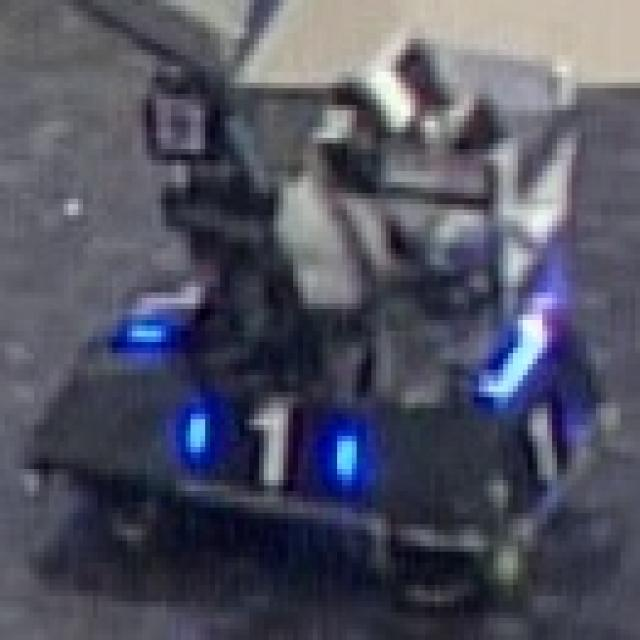B1: (176, 381, 371, 502)
